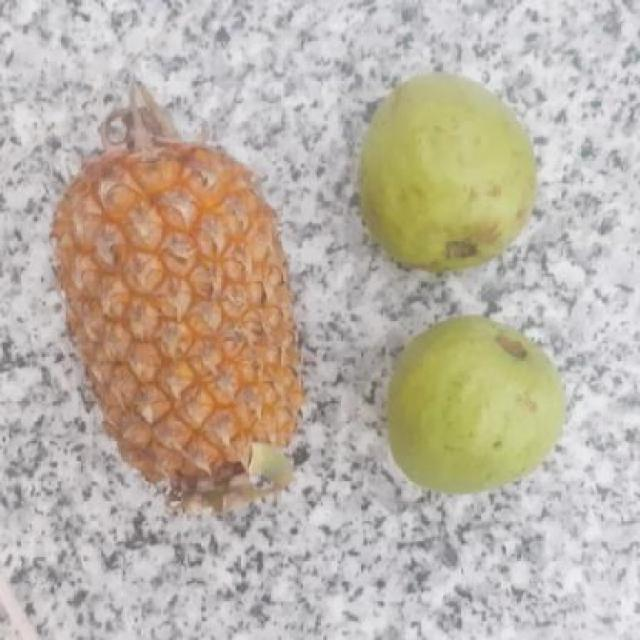guava: (358, 73, 540, 264), (388, 320, 574, 494)
pineapple: (59, 140, 303, 498)
